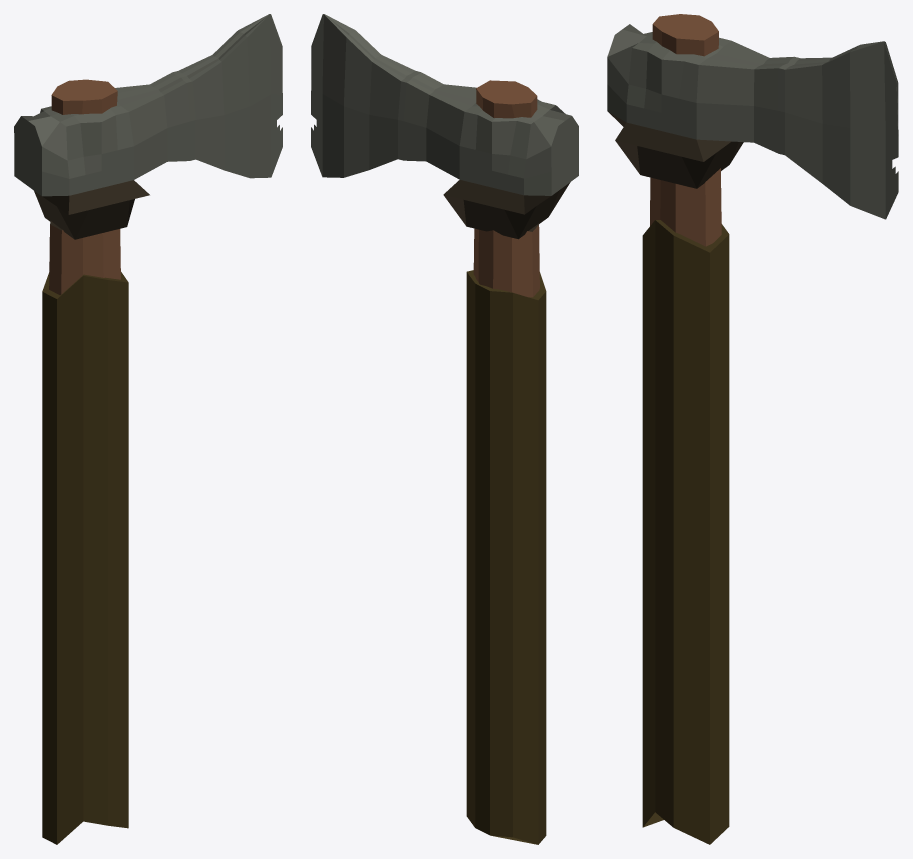
File: Axe.fbx
The picture shows the model from 3 angles, left to right: view 1: azimuth 30°, elevation 25°; view 2: azimuth 150°, elevation 25°; view 3: azimuth 330°, elevation 25°; orthographic projection. The views are drawn at different scales.
Parts seen in each view (by area): view 1: Cylinder, Cylinder.001; view 2: Cylinder, Cylinder.001; view 3: Cylinder, Cylinder.001.
Part boxes in pixels (x1,y1,x2,y2): Cylinder: [42, 272, 128, 844]; Cylinder.001: [14, 14, 282, 295]; Cylinder: [466, 270, 546, 844]; Cylinder.001: [311, 14, 578, 297]; Cylinder: [642, 220, 729, 844]; Cylinder.001: [607, 14, 898, 246].
Bounding box in the file's own units: 17.81 × 51.75 × 5.72.
